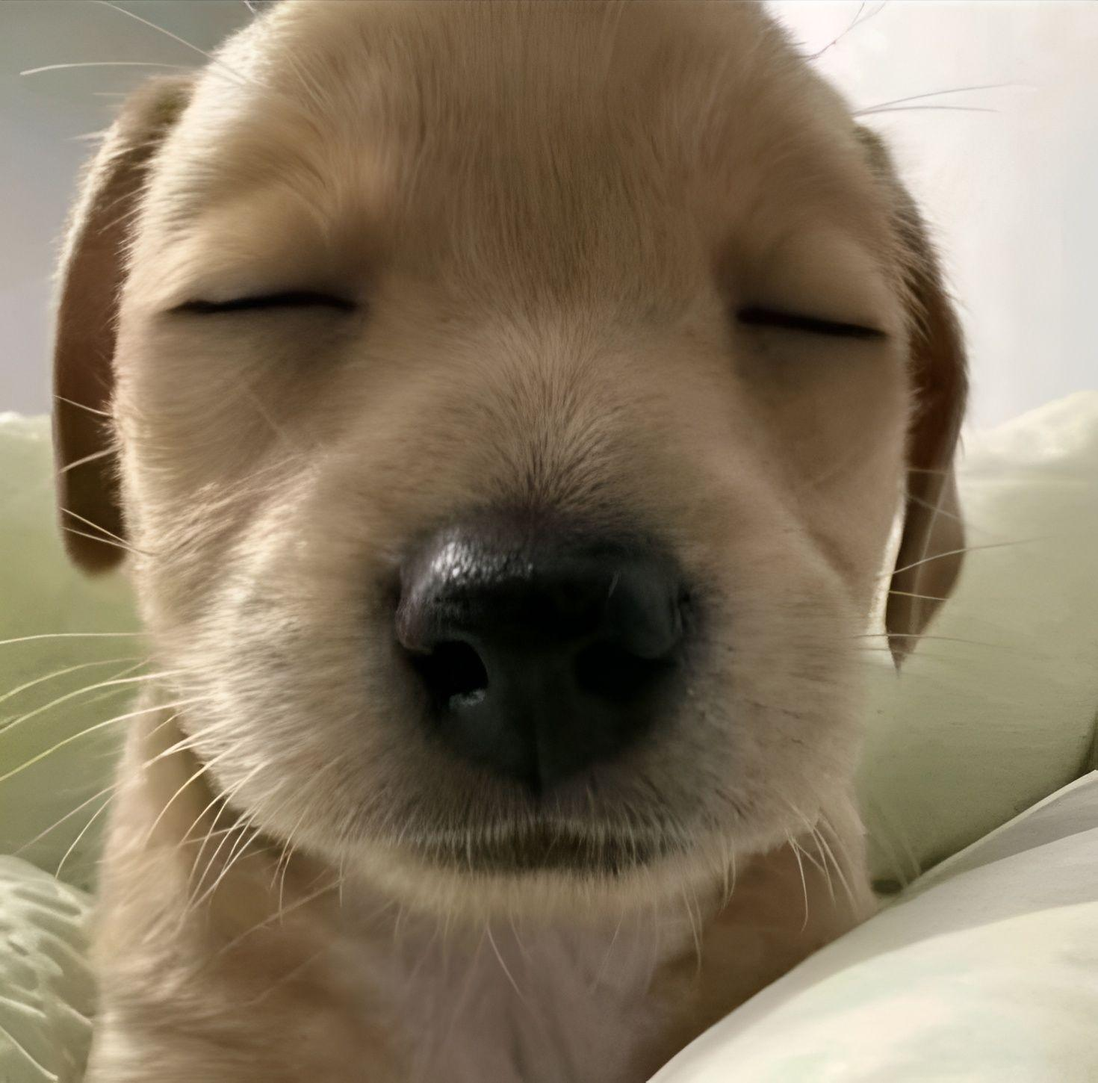puppy-dog: (50, 1, 981, 1083)
